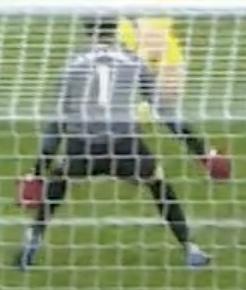goalkeeper: (0, 9, 246, 282)
